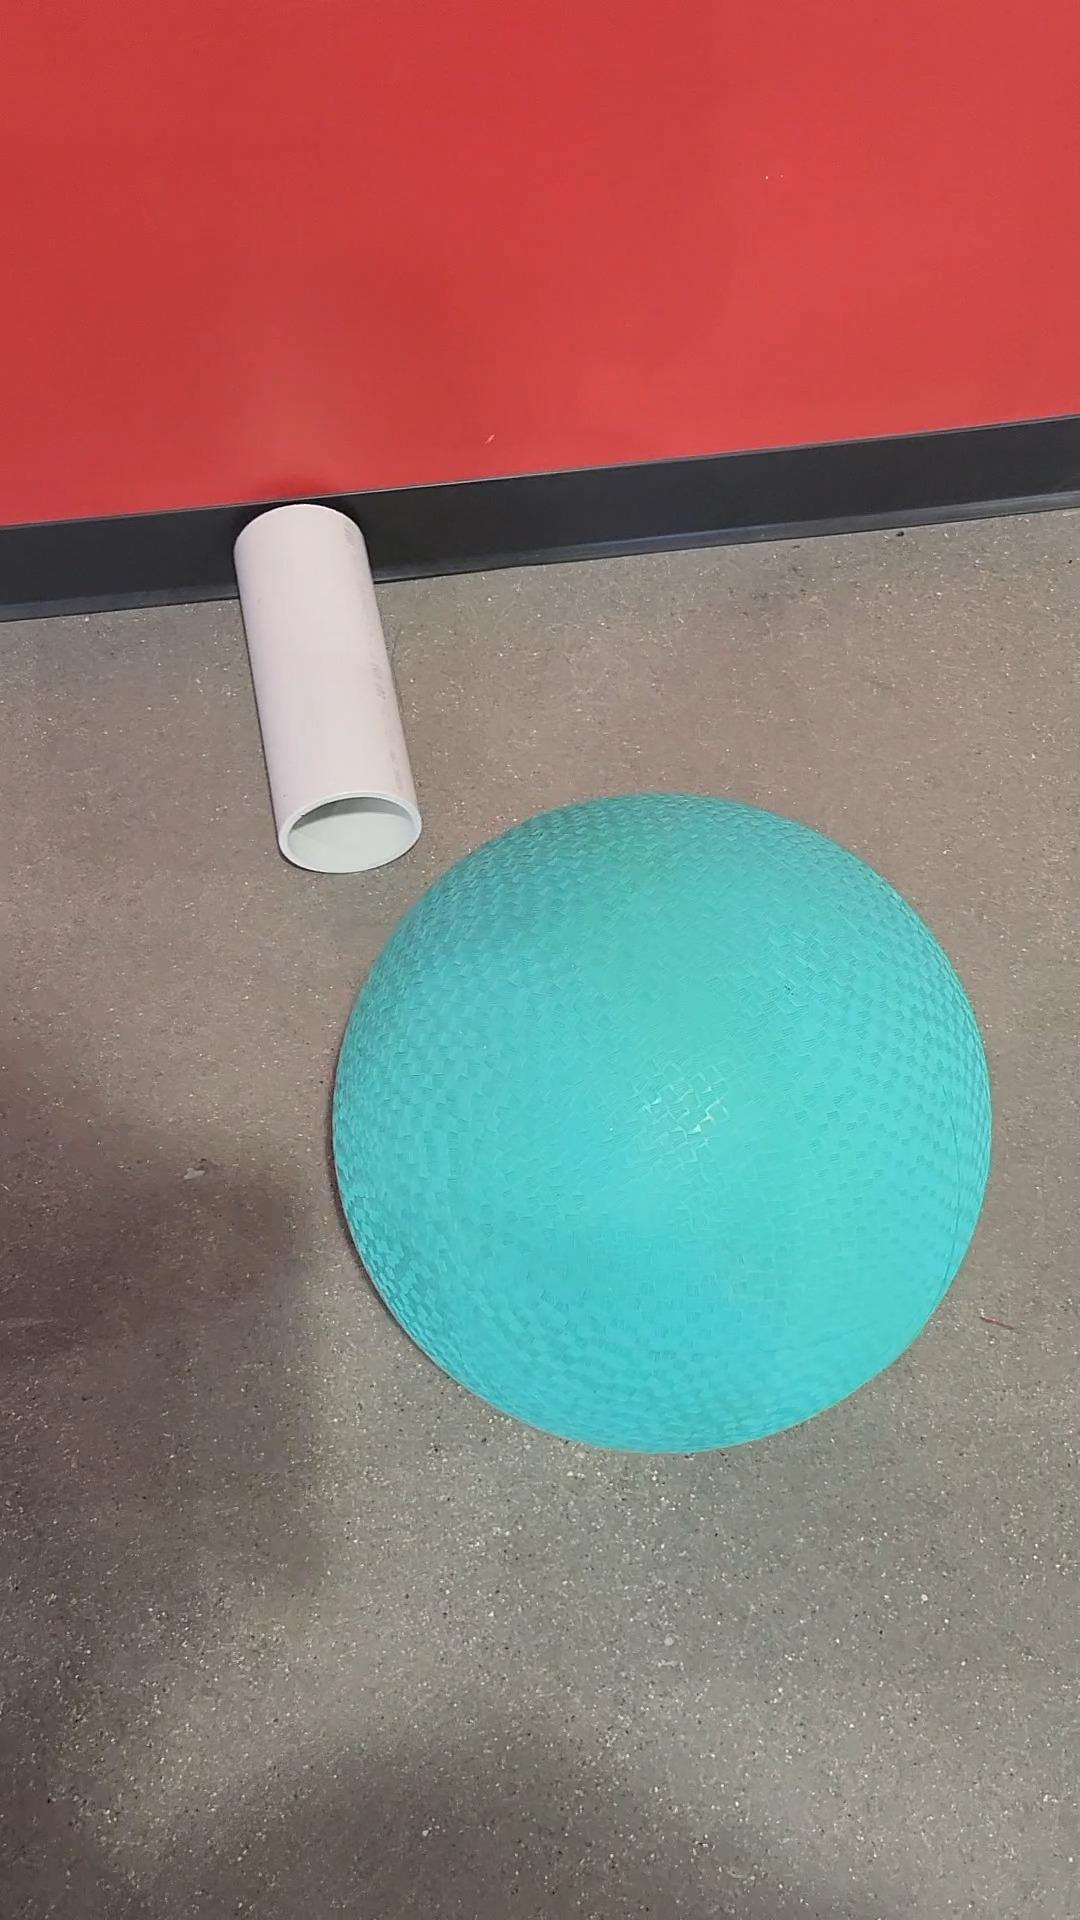algae: (311, 791, 1002, 1453)
coral: (225, 496, 435, 865)
